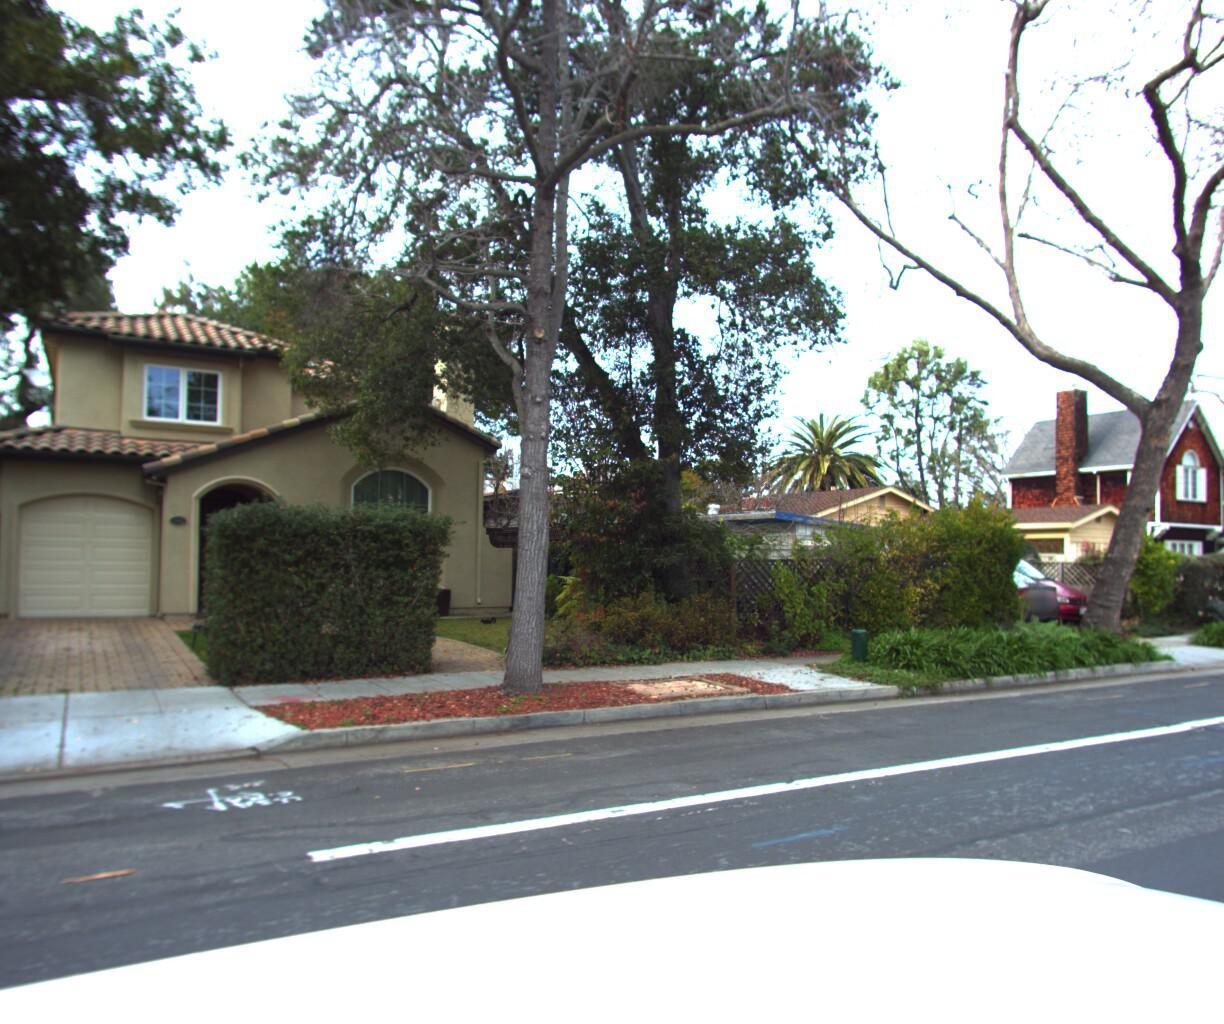car: (902, 544, 1104, 627), (860, 557, 1072, 635)
